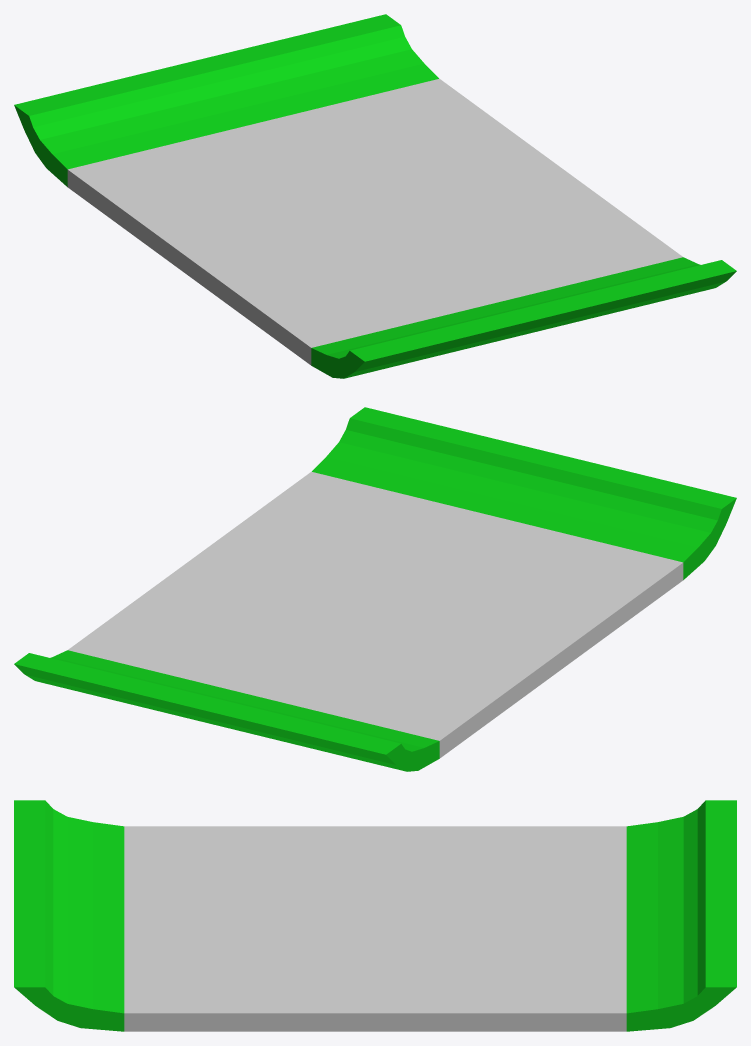
Rendered from Road_Track.fbx.
3 renders of one model, top to bottom at view 1: azimuth 30°, elevation 25°; view 2: azimuth 150°, elevation 25°; view 3: azimuth 270°, elevation 25°, orthographic. The views are drawn at different scales.
Parts seen in each view (by area): view 1: Road_Track; view 2: Road_Track; view 3: Road_Track.
Part boxes in pixels (bbox=[...]): Road_Track: bbox=[14, 14, 736, 378]; Road_Track: bbox=[14, 407, 736, 771]; Road_Track: bbox=[14, 800, 736, 1031].
Bounding box in the file's own units: 400 × 44.35 × 653.
